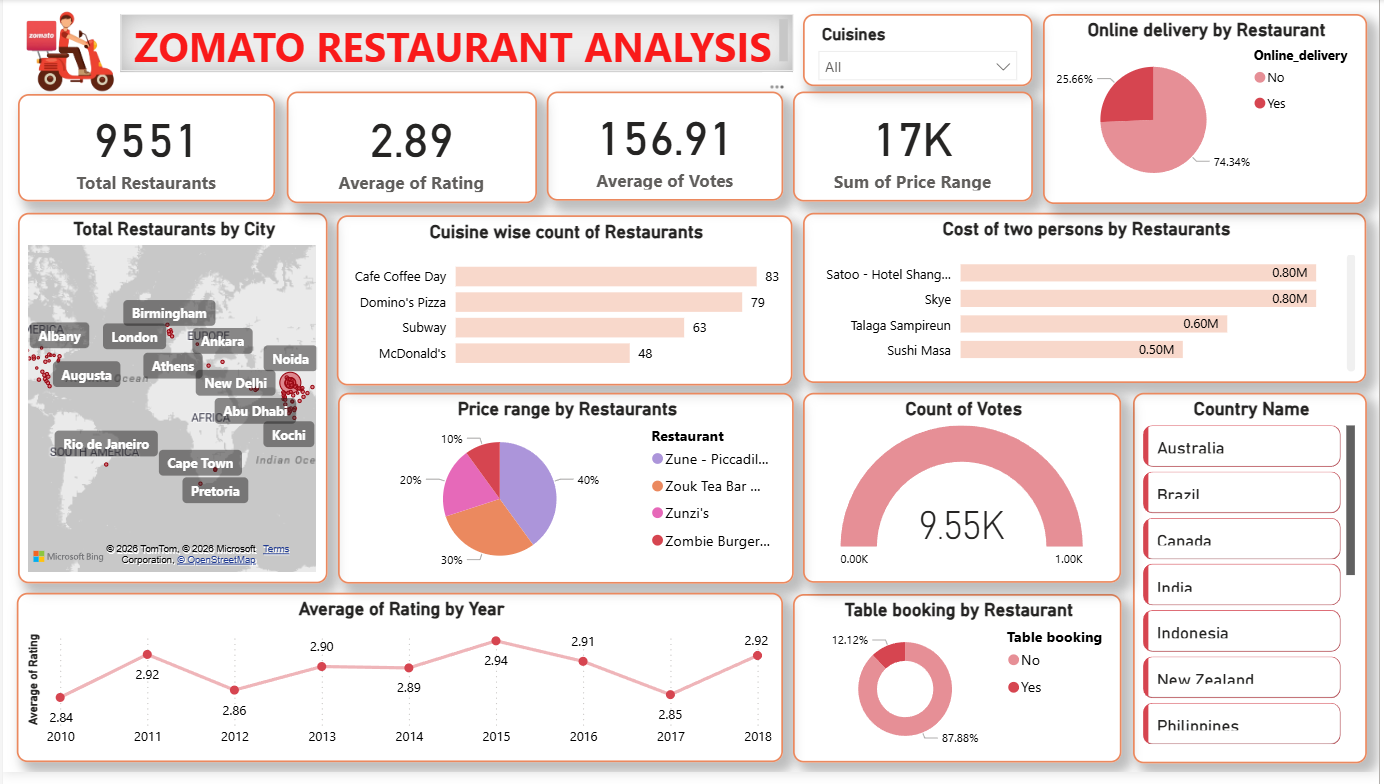

What the dashboard file says about the page in this screenshot:
{"tool":"powerbi","page":{"name":"Page 1","canvas":[1280,720],"ordinal":0},"visuals":[{"type":"textbox","box":[109.5,13.5,625.7,54.1],"z":0},{"type":"image","box":[0,0,121.6,95.9],"z":1000},{"type":"slicer","fields":{"Values":["Restaurant.Cuisines"]},"box":[744.6,13.5,213.5,67.6],"z":2000},{"type":"card","fields":{"Values":["CountNonNull(Restaurant.TotalRestaurants)"]},"box":[13.5,87.8,239.2,100],"z":3000},{"type":"map","title":"Total Restaurants by City","fields":{"Category":["Restaurant.City"],"Size":["Sum(Restaurant.TotalRestaurants)"]},"box":[13.5,198.6,287.8,344.6],"z":4000},{"type":"card","fields":{"Values":["Avg(Restaurant.Rating)"]},"box":[263.5,86.5,232.4,104.1],"z":5000},{"type":"card","fields":{"Values":["Avg(Restaurant.Votes)"]},"box":[505.4,86.5,220.3,101.4],"z":6000},{"type":"card","fields":{"Values":["Sum(Restaurant.Price_range)"]},"box":[735.1,86.5,223,102.7],"z":7000},{"type":"clusteredBarChart","title":"Cuisine wise count of Restaurants","fields":{"Category":["Restaurant.RestaurantName"],"Y":["CountNonNull(Restaurant.Cuisines)"]},"box":[310.8,201.4,424.3,158.1],"z":8000},{"type":"pieChart","title":"Price range by Restaurants","fields":{"Y":["Sum(Restaurant.Price_range)"],"Category":["Restaurant.RestaurantName"]},"box":[311.2,366.2,423.8,177.5],"z":9000},{"type":"lineChart","fields":{"Y":["Avg(Restaurant.Rating)"],"Category":["Restaurant.Datekey_Opening.Variation.Date Hierarchy.Year"]},"box":[12.5,552.5,712.5,157.5],"z":10000},{"type":"clusteredBarChart","title":"Cost of two persons by Restaurants","fields":{"Category":["Restaurant.RestaurantName"],"Y":["Sum(Restaurant.Average_Cost_for_two)"]},"box":[744.6,198.6,524.3,158.1],"z":11000},{"type":"pieChart","title":"Online delivery by Restaurant","fields":{"Category":["Restaurant.Has_Online_delivery"],"Y":["CountNonNull(Restaurant.RestaurantName)"]},"box":[967.6,13.5,301.4,177],"z":12000},{"type":"donutChart","title":"Table booking by Restaurant","fields":{"Category":["Restaurant.Has_Table_booking"],"Y":["CountNonNull(Restaurant.RestaurantName)"]},"box":[735.1,554.1,305.4,156.8],"z":13000},{"type":"advancedSlicerVisual","fields":{"Values":["Country.country name"]},"box":[1051.4,366.2,217.6,344.6],"z":14000},{"type":"gauge","fields":{"Y":["CountNonNull(Restaurant.Votes)"]},"box":[744.6,366.2,295.9,177],"z":15000}]}

Visuals, with their boxes in screenshot pixels (x1, y1, x2, y2), scaled from the page's 1280x720 canvas onto the 1384x784 screenshot:
textbox: x1=118 y1=15 x2=795 y2=74
image: x1=0 y1=0 x2=131 y2=104
slicer - Restaurant.Cuisines: x1=805 y1=15 x2=1036 y2=88
card - CountNonNull(Restaurant.TotalRestaurants): x1=15 y1=96 x2=273 y2=204
"Total Restaurants by City" map: x1=15 y1=216 x2=326 y2=591
card - Avg(Restaurant.Rating): x1=285 y1=94 x2=536 y2=208
card - Avg(Restaurant.Votes): x1=546 y1=94 x2=785 y2=205
card - Sum(Restaurant.Price_range): x1=795 y1=94 x2=1036 y2=206
"Cuisine wise count of Restaurants" clusteredBarChart: x1=336 y1=219 x2=795 y2=391
"Price range by Restaurants" pieChart: x1=336 y1=399 x2=795 y2=592
lineChart - Avg(Restaurant.Rating) x Restaurant.Datekey_Opening.Variation.Date Hierarchy.Year: x1=14 y1=602 x2=784 y2=773
"Cost of two persons by Restaurants" clusteredBarChart: x1=805 y1=216 x2=1372 y2=388
"Online delivery by Restaurant" pieChart: x1=1046 y1=15 x2=1372 y2=207
"Table booking by Restaurant" donutChart: x1=795 y1=603 x2=1125 y2=774
advancedSlicerVisual - Country.country name: x1=1137 y1=399 x2=1372 y2=774
gauge - CountNonNull(Restaurant.Votes): x1=805 y1=399 x2=1125 y2=591
